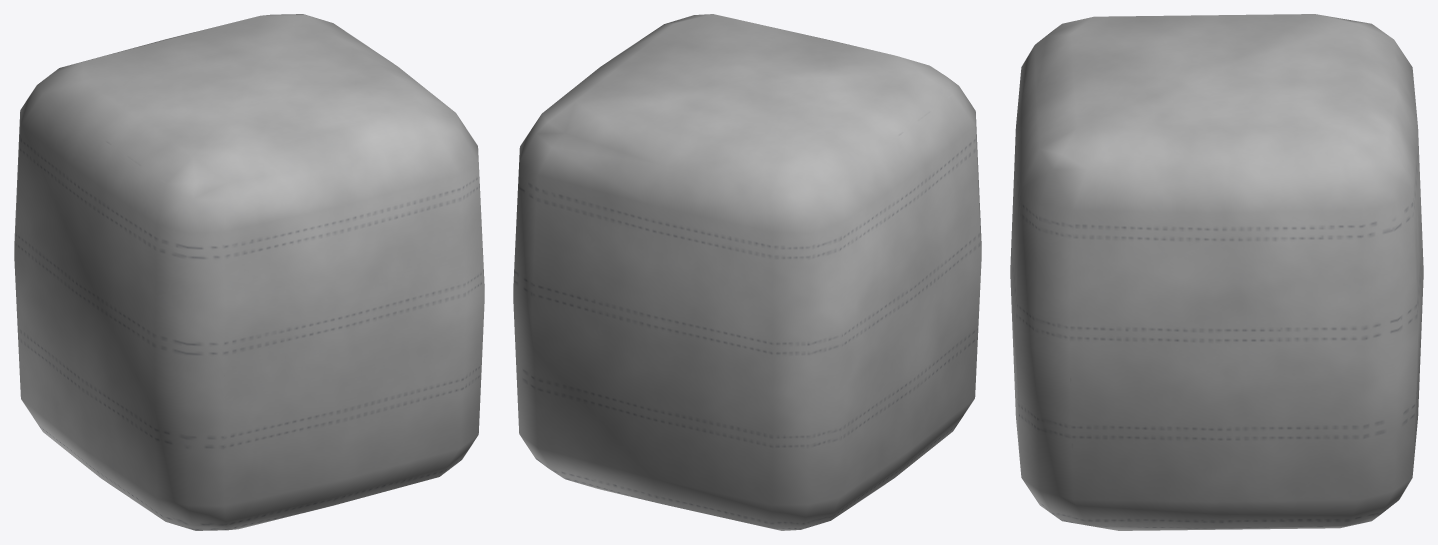
File: RightUpperArm_C1.fbx
The picture shows the model from 3 angles, left to right: view 1: azimuth 30°, elevation 25°; view 2: azimuth 150°, elevation 25°; view 3: azimuth 270°, elevation 25°; orthographic projection. The views are drawn at different scales.
Visible parts, largest first — view 1: Civ_CamisaCuadros_RightUpperArm_C1; view 2: Civ_CamisaCuadros_RightUpperArm_C1; view 3: Civ_CamisaCuadros_RightUpperArm_C1.
Part boxes in pixels (bbox=[...]): Civ_CamisaCuadros_RightUpperArm_C1: bbox=[14, 14, 484, 530]; Civ_CamisaCuadros_RightUpperArm_C1: bbox=[513, 14, 981, 530]; Civ_CamisaCuadros_RightUpperArm_C1: bbox=[1010, 14, 1423, 530].
Size of the model in its own units: 1.22 by 1.31 by 1.22.
